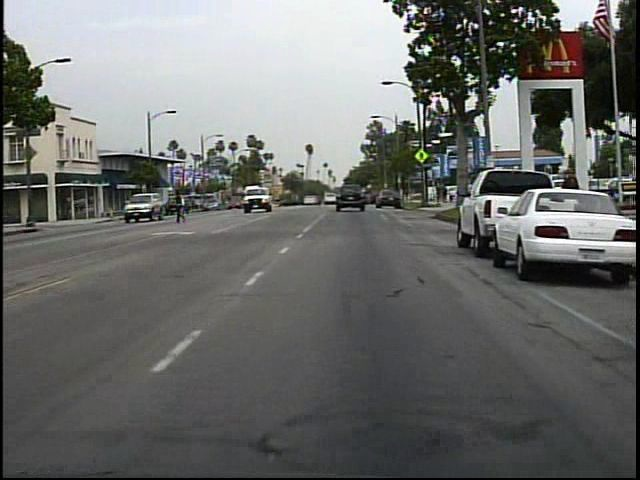person: (557, 166, 584, 226), (169, 184, 192, 226)
